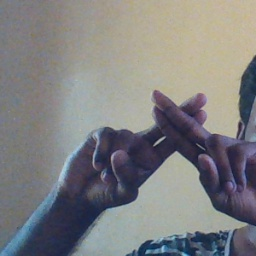F: (100, 83, 251, 190)
